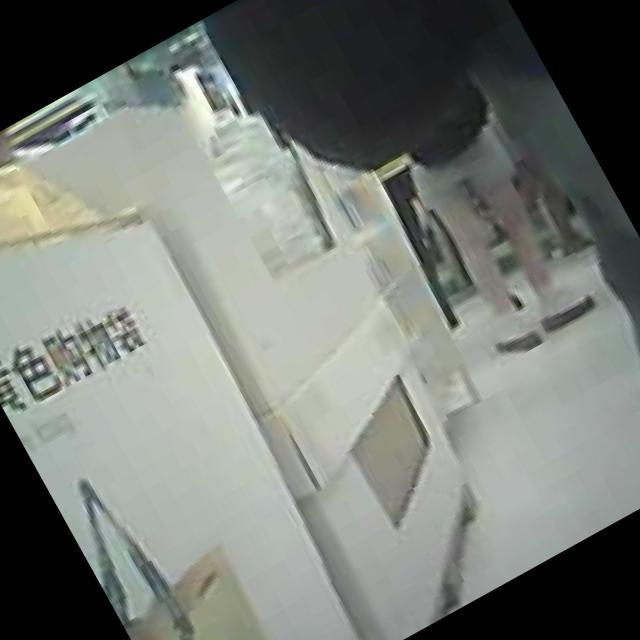person: (445, 10, 640, 483), (380, 90, 598, 370)
